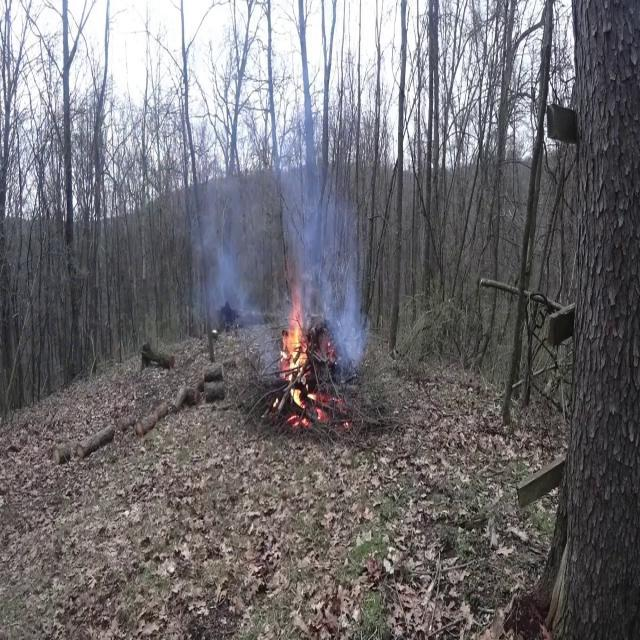Fire: (266, 284, 330, 426), (272, 298, 321, 425)
Smoke: (181, 120, 369, 363), (181, 133, 275, 350)
